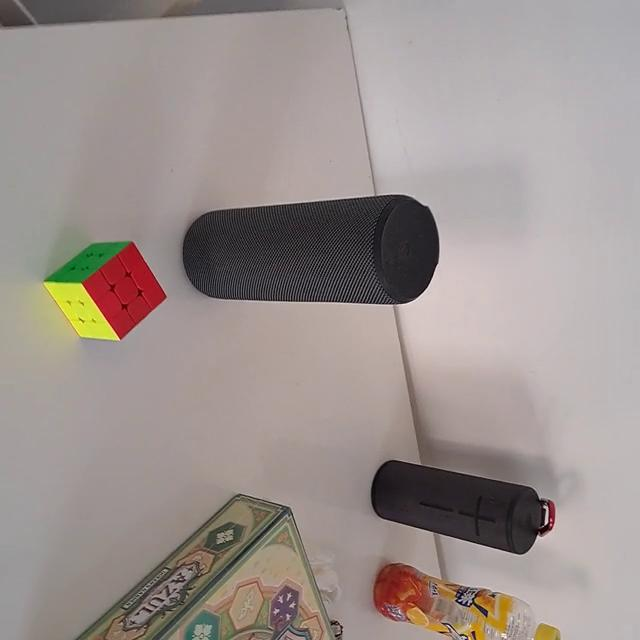rubix_cube: (42, 236, 168, 346)
